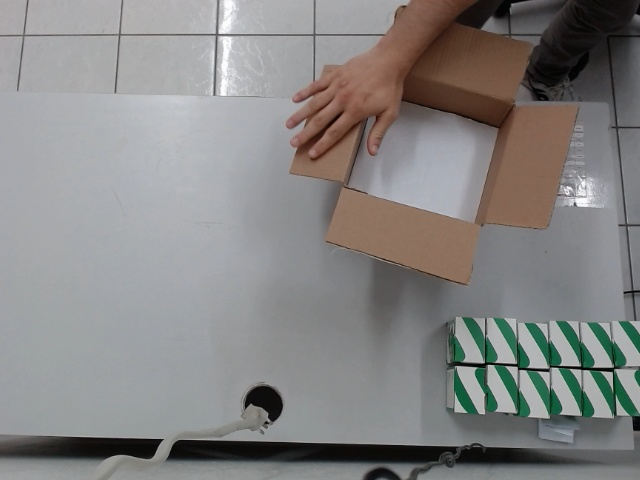caixa_principal: (283, 6, 582, 289)
